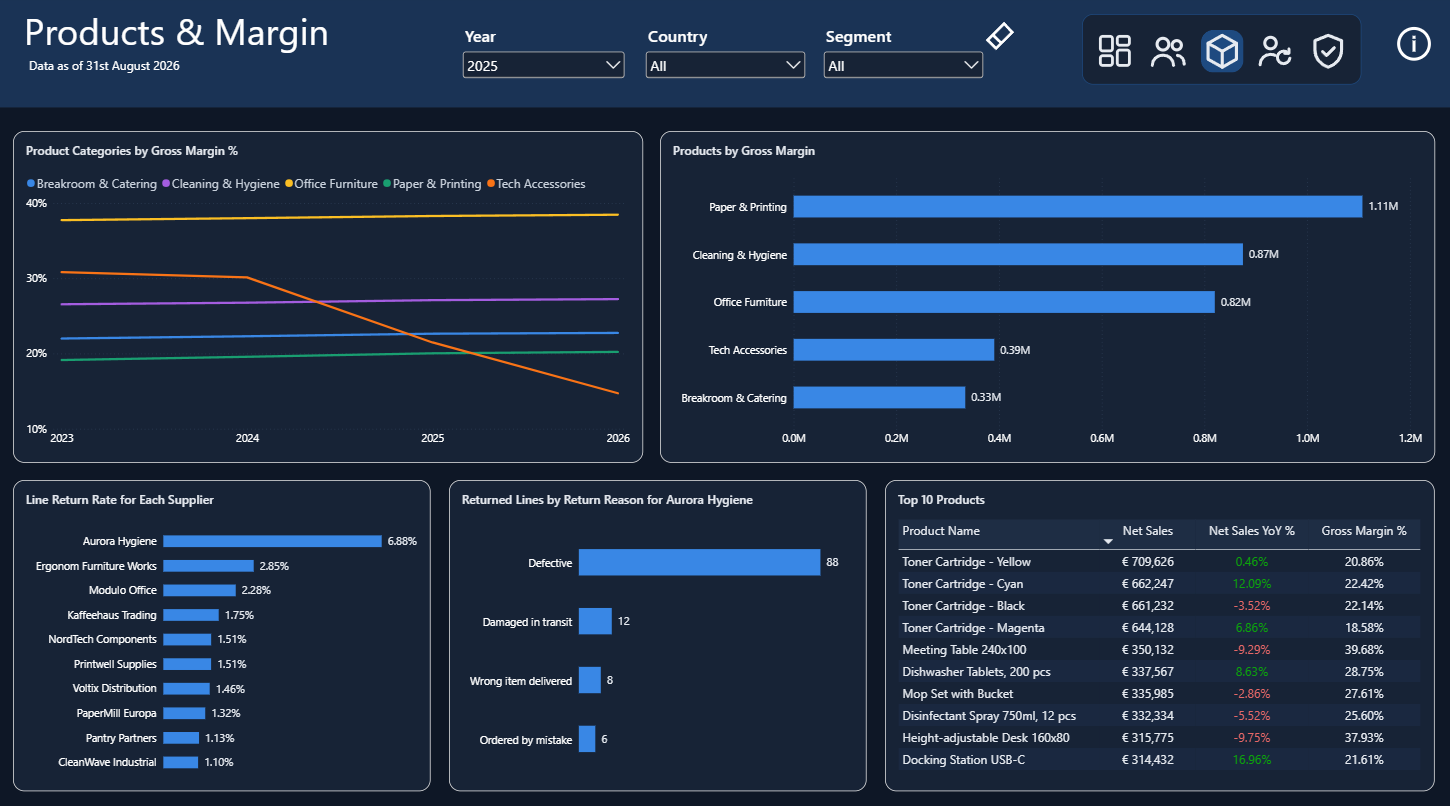

What the dashboard file says about the page in this screenshot:
{"tool":"powerbi","page":{"name":"Page 3 - Products & Margin","canvas":[1920,1080],"ordinal":2},"visuals":[{"type":"lineChart","title":"Product Categories by Gross Margin %","fields":{"Category":["Date.year"],"Series":["Product.category"],"Y":["_Measures.Gross Margin %"]},"box":[23.2,178.4,829.7,437.2],"z":0},{"type":"clusteredBarChart","title":"Line Return Rate for Each Supplier","fields":{"Category":["Product.supplier"],"Y":["_Measures.Line Return Rate %"]},"box":[23.2,637,549.6,410.4],"z":2000},{"type":"clusteredBarChart","title":"Returned Lines by Return Reason for Aurora Hygiene","fields":{"Category":["Returns.return_reason"],"Y":["_Measures.Returned Lines"]},"box":[597.8,637,549.6,410.4],"z":3000},{"type":"tableEx","title":"Top 10 Products","fields":{"Values":["Product.product_name","_Measures.Net Sales","_Measures.Net Sales YoY %","_Measures.Gross Margin %"]},"box":[1172.3,637,724.5,410.4],"z":4000},{"type":"shape","box":[0,0,1920,146.6],"z":5000},{"type":"textbox","box":[37.5,12.5,488,118],"z":6000},{"type":"textbox","box":[45,80.4,232.9,48.8],"z":7000},{"type":"shape","box":[1431.3,23.7,368.3,93],"z":8000},{"type":"actionButton","box":[1447.9,44.3,55.4,55.4],"z":9000},{"type":"actionButton","box":[1517.9,44.3,56,56],"z":10000},{"type":"actionButton","box":[1587.9,45.2,56,56],"z":11000},{"type":"actionButton","box":[1657.9,45.2,55.4,55.4],"z":12000},{"type":"actionButton","box":[1727.9,45.2,56,56],"z":13000},{"type":"slicer","fields":{"Values":["Date.year"]},"box":[611.4,37.5,223.5,85.8],"z":14000},{"type":"slicer","fields":{"Values":["Customer.country"]},"box":[852.7,37.5,219.9,85.8],"z":15000},{"type":"slicer","fields":{"Values":["Customer.segment"]},"box":[1086.9,37.5,219.9,85.8],"z":16000},{"type":"actionButton","box":[1294.3,28.6,57.2,48.3],"z":17000},{"type":"actionButton","box":[1839.6,28.6,57.2,67.9],"z":18000},{"type":"barChart","title":"Products by Gross Margin","fields":{"Category":["Product.category"],"Y":["_Measures.Gross Margin"]},"box":[876.1,178.4,1020.7,437.2],"z":19000}]}

Visuals, with their boxes in screenshot pixels (x1, y1, x2, y2), scaled from the page's 1920x1080 canvas onto the 1450x806 screenshot:
"Product Categories by Gross Margin %" lineChart: 18/133/644/459
"Line Return Rate for Each Supplier" clusteredBarChart: 18/475/433/782
"Returned Lines by Return Reason for Aurora Hygiene" clusteredBarChart: 451/475/867/782
"Top 10 Products" tableEx: 885/475/1432/782
shape: 0/0/1449/109
textbox: 28/9/397/97
textbox: 34/60/210/96
shape: 1081/18/1359/87
actionButton: 1093/33/1135/74
actionButton: 1146/33/1189/75
actionButton: 1199/34/1241/76
actionButton: 1252/34/1294/75
actionButton: 1305/34/1347/76
slicer - Date.year: 462/28/631/92
slicer - Customer.country: 644/28/810/92
slicer - Customer.segment: 821/28/987/92
actionButton: 977/21/1021/57
actionButton: 1389/21/1432/72
"Products by Gross Margin" barChart: 662/133/1432/459
